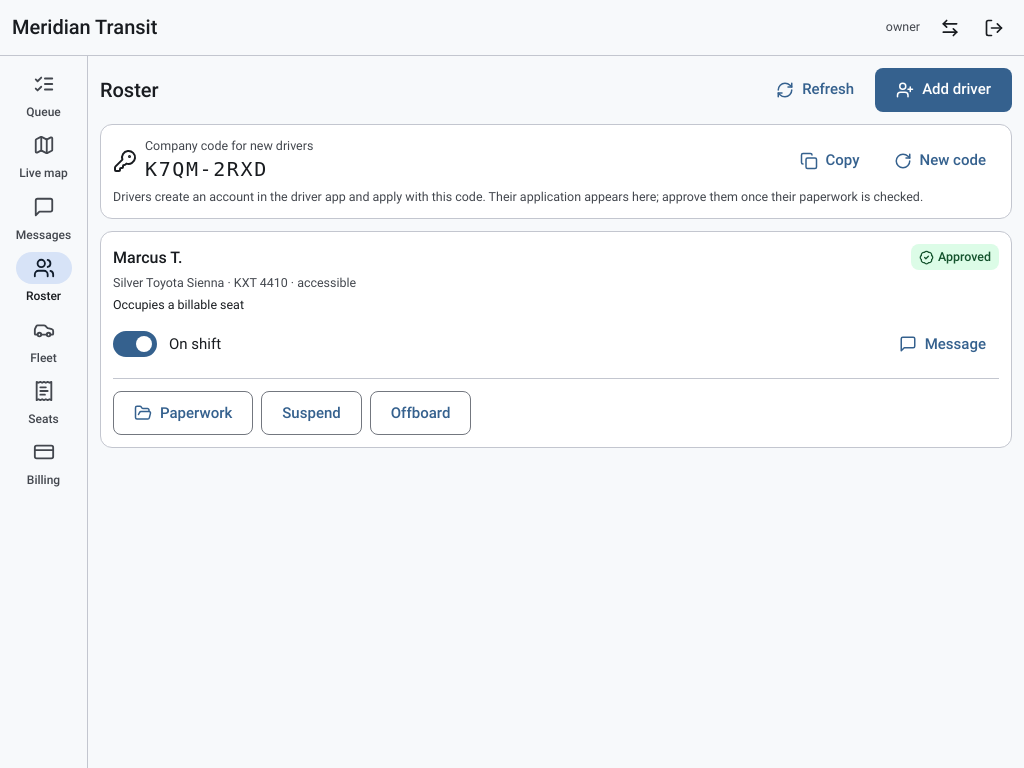
it: driver applications › shows the company code, and replaces it only after a yes
Expected: the text "K7QM-2RXD" is shown, [145, 157, 268, 181]
Step 1. Click the button "New code" → (940, 160), box [880, 138, 999, 182]
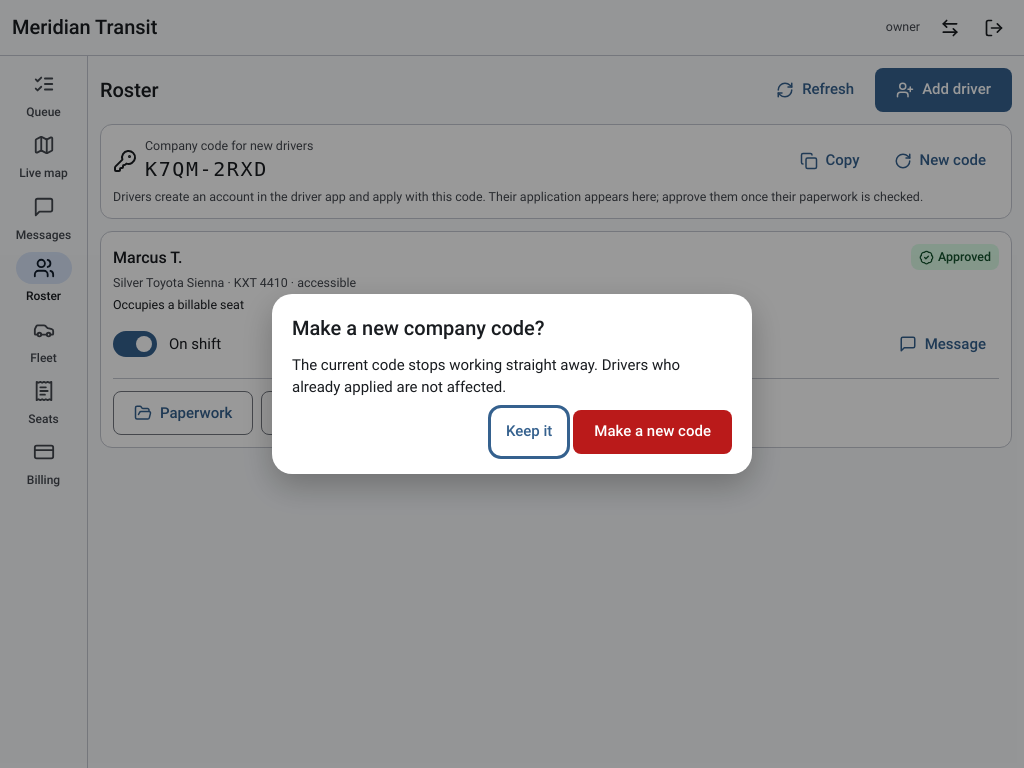
Step 2. Click the button "Make a new code" → (653, 432), box [573, 410, 732, 454]
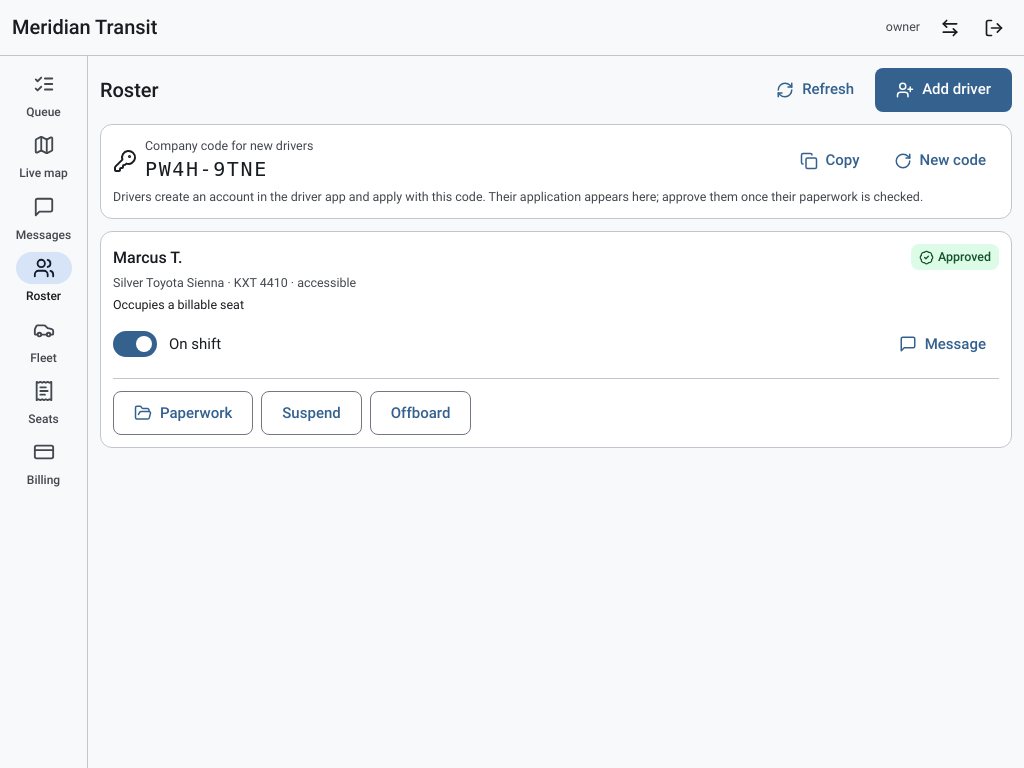
Now the text "PW4H-9TNE" is shown, box [145, 157, 268, 181]
